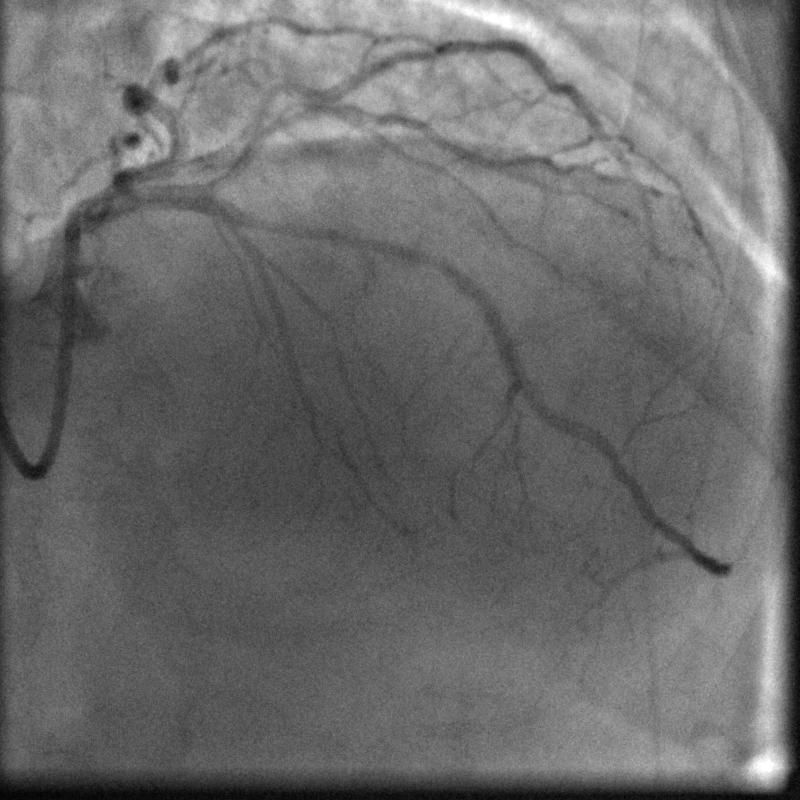Stenosis: (247, 203, 308, 246)
